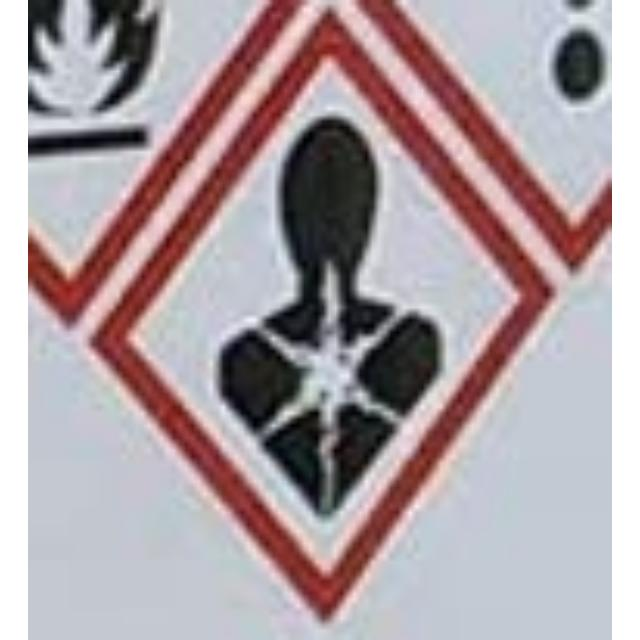serious health hazard: (84, 1, 550, 622)
